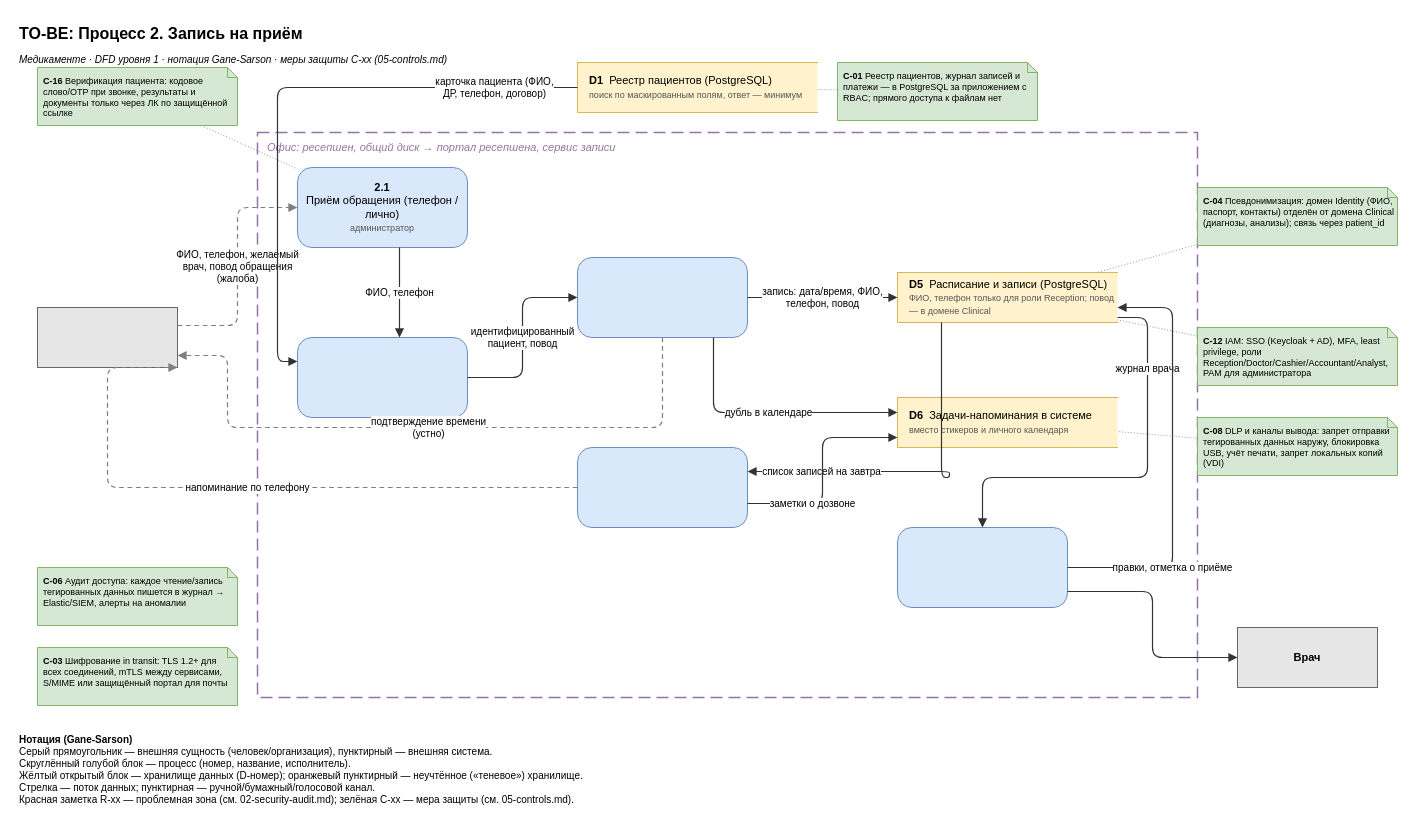
Some shapes in this 1415 by 834 pixel diagram are drawn without their labels. Each missing label, with the centre of its shape:
"2.2 Поиск и идентификация пациента администратор" goes at (x=382, y=377).
"2.3 Выбор времени и запись в журнал врача администратор" goes at (x=662, y=297).
"2.4 Напоминание о приёме за день администратор" goes at (x=662, y=487).
"2.5 Просмотр и правка своего журнала врач" goes at (x=982, y=567).
"Пациент" goes at (x=107, y=337).
